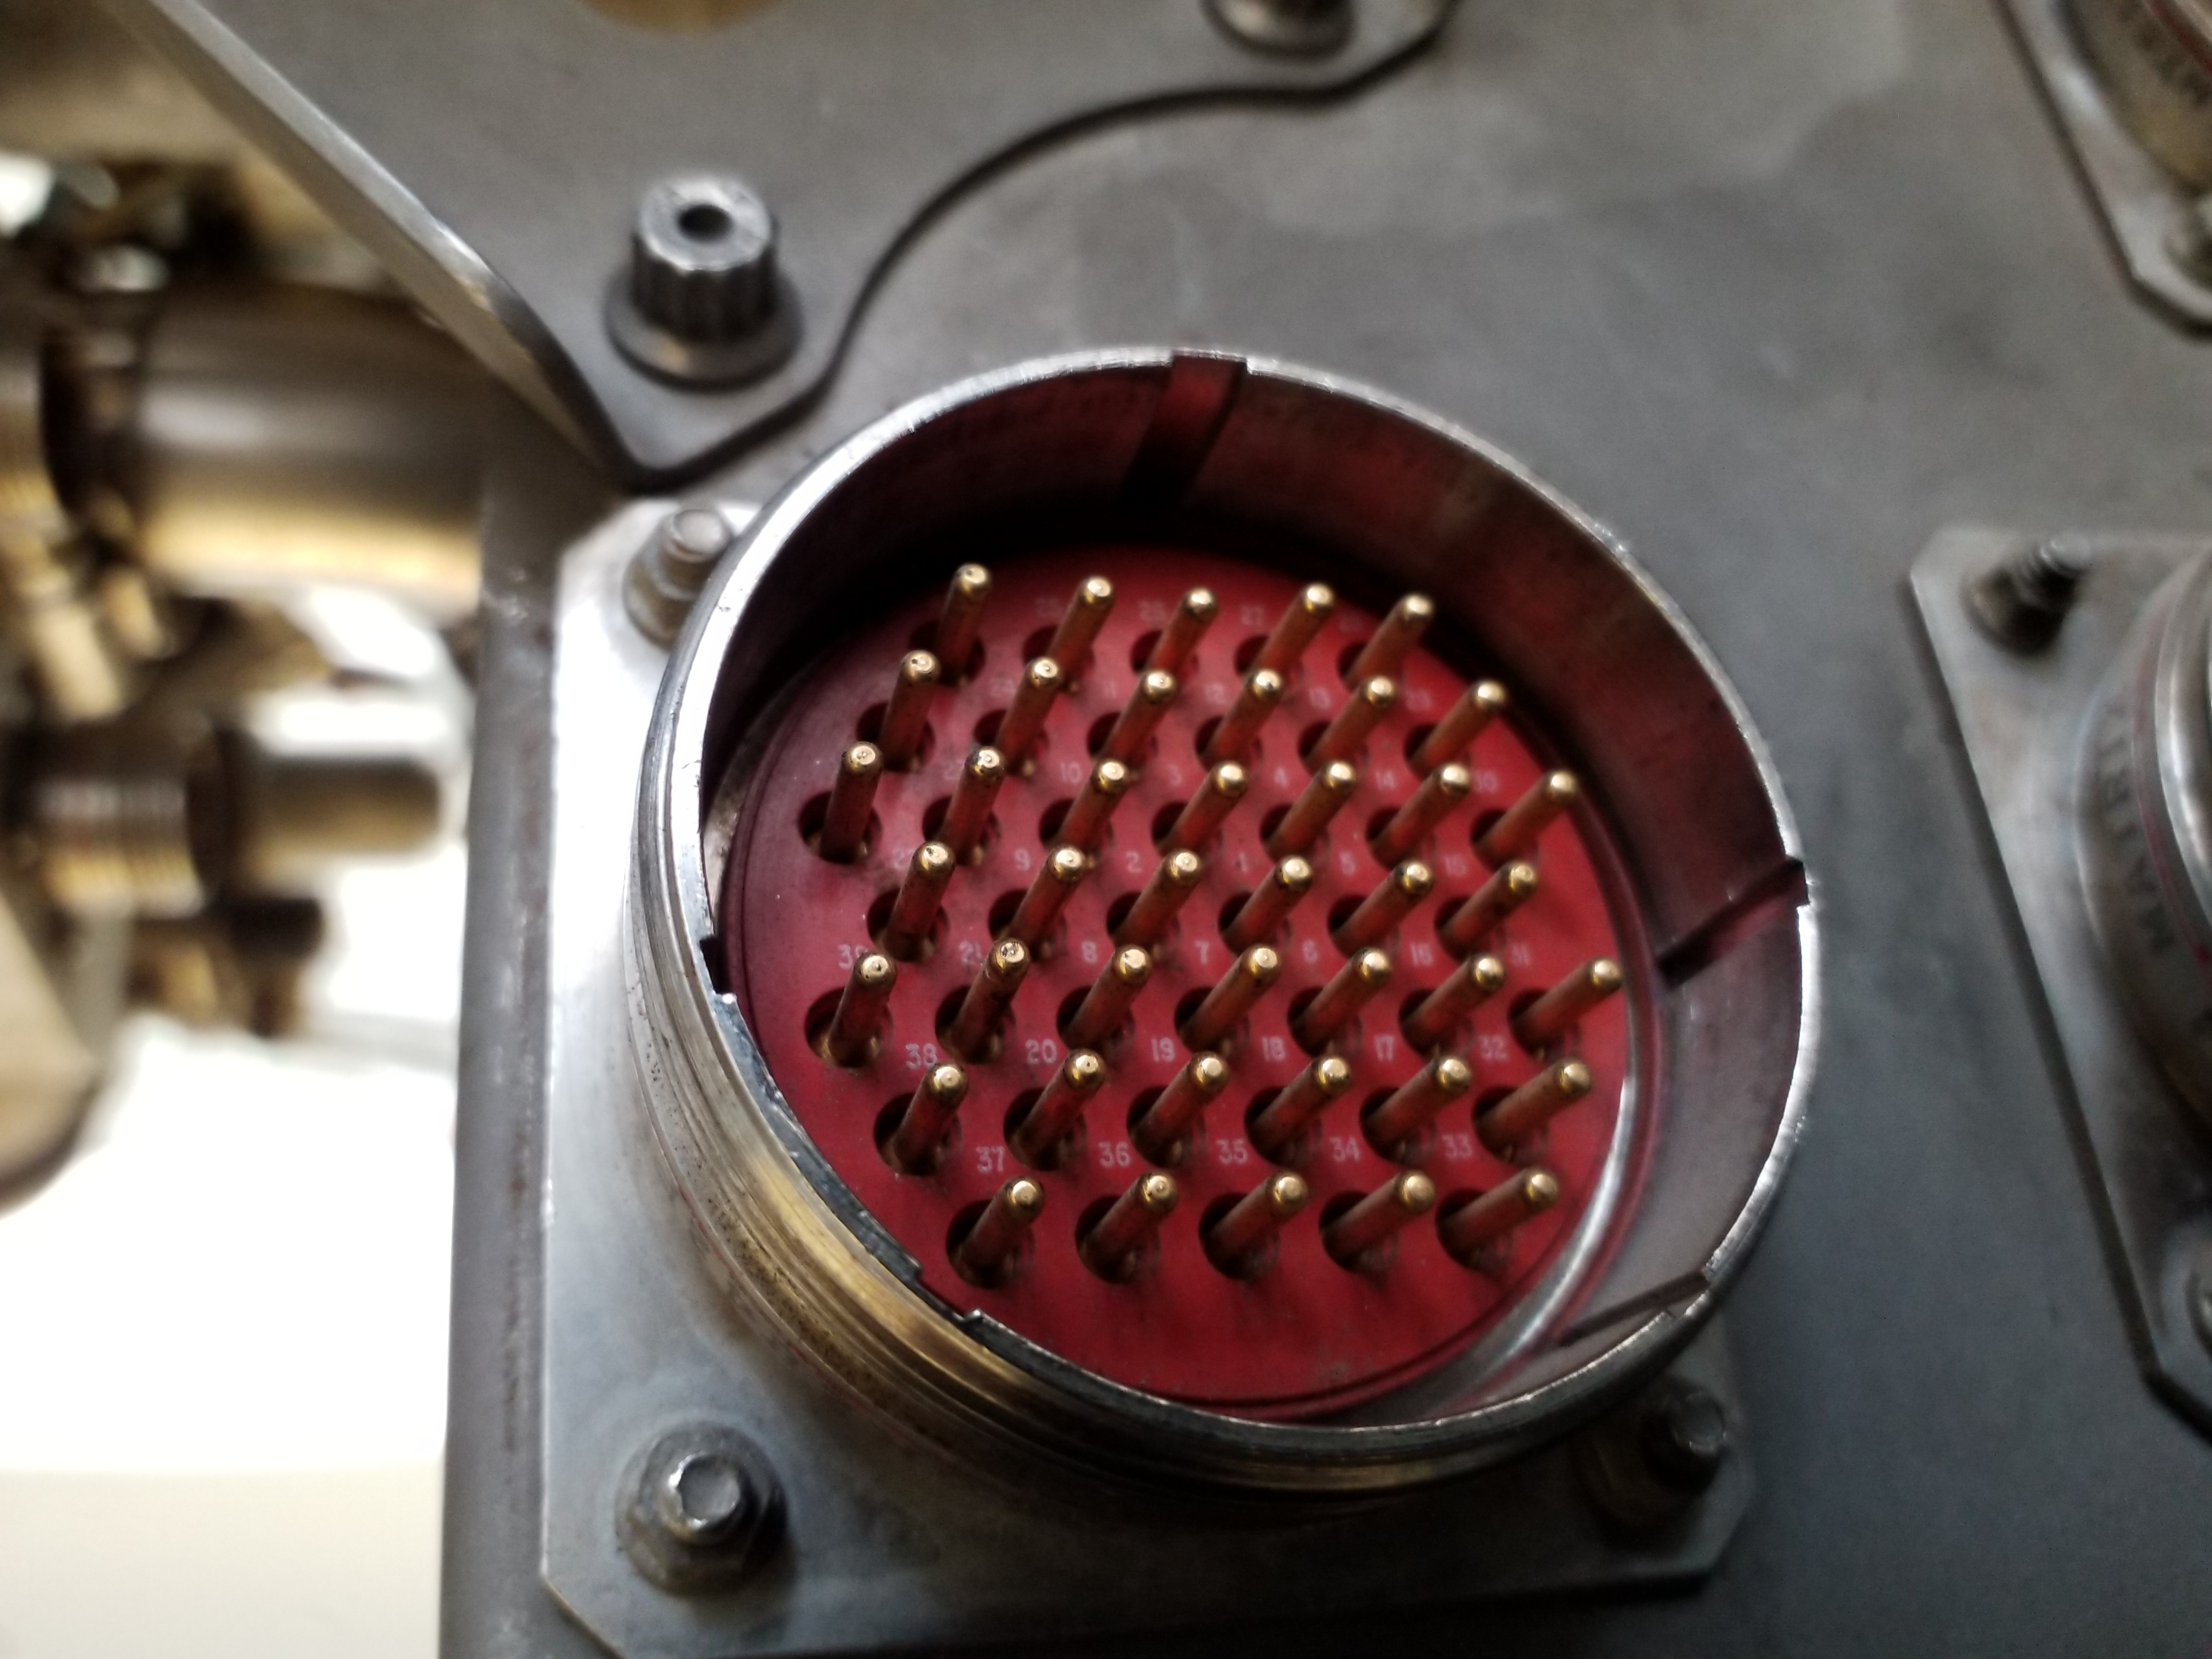outlet: (637, 321, 1806, 1474)
